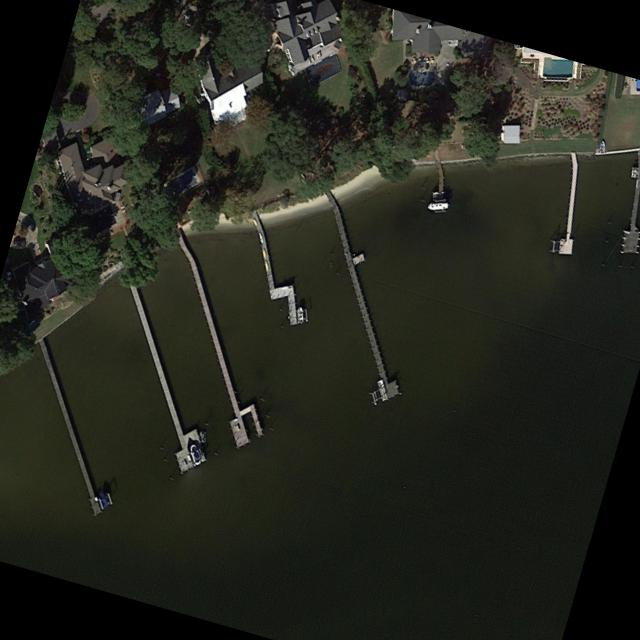ship: (187, 440, 201, 465), (425, 199, 449, 209), (97, 489, 107, 507), (295, 305, 304, 323), (431, 190, 444, 200), (599, 138, 604, 152)
small-vehicle: (22, 212, 37, 230), (29, 182, 41, 196), (11, 239, 24, 246), (6, 269, 10, 280)
